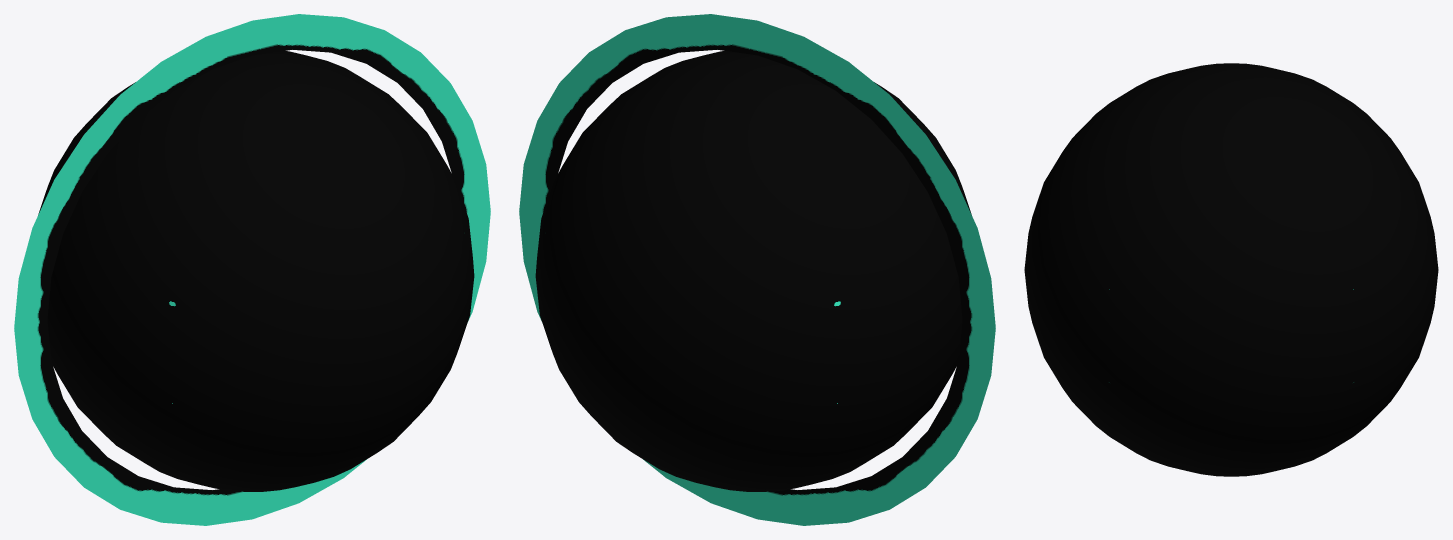
The model's file is Explosion.obj.
3 renders of one model, left to right at view 1: azimuth 30°, elevation 25°; view 2: azimuth 150°, elevation 25°; view 3: azimuth 270°, elevation 25°, orthographic. The views are drawn at different scales.
Parts seen in each view (by area): view 1: 球, 円; view 2: 球, 円; view 3: 球.
Boxes of the visible parts, x1,y1,x2,y2 form: 球: (38, 51, 474, 491); 円: (14, 14, 490, 525); 球: (535, 51, 971, 491); 円: (519, 14, 995, 525); 球: (1024, 63, 1438, 476).
Bounding box in the file's own units: 2.48 × 2.48 × 2.
Materials: 1 (1 with a texture image).
